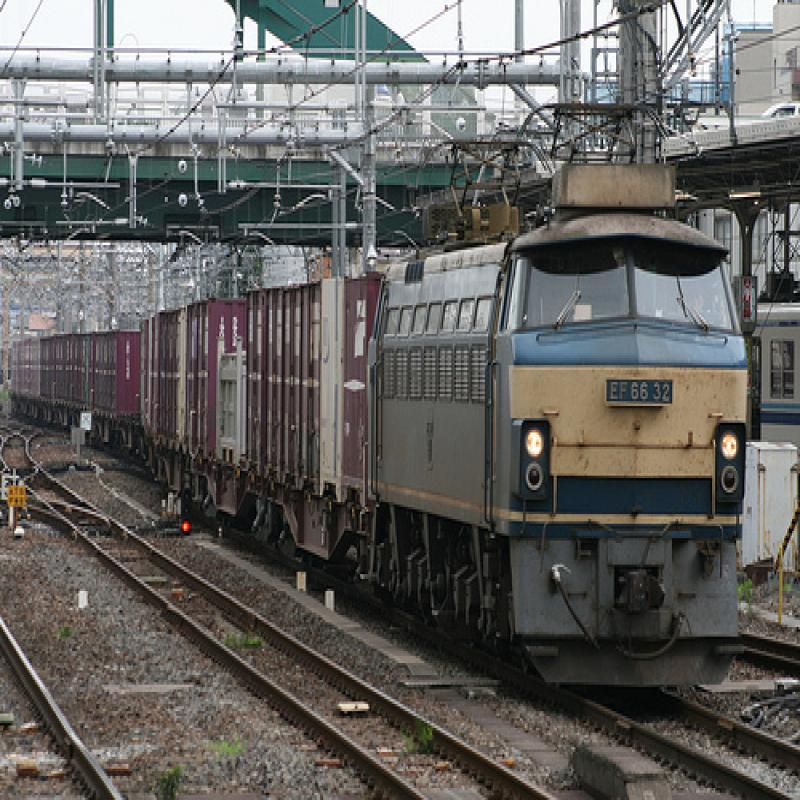train: (3, 172, 756, 703)
